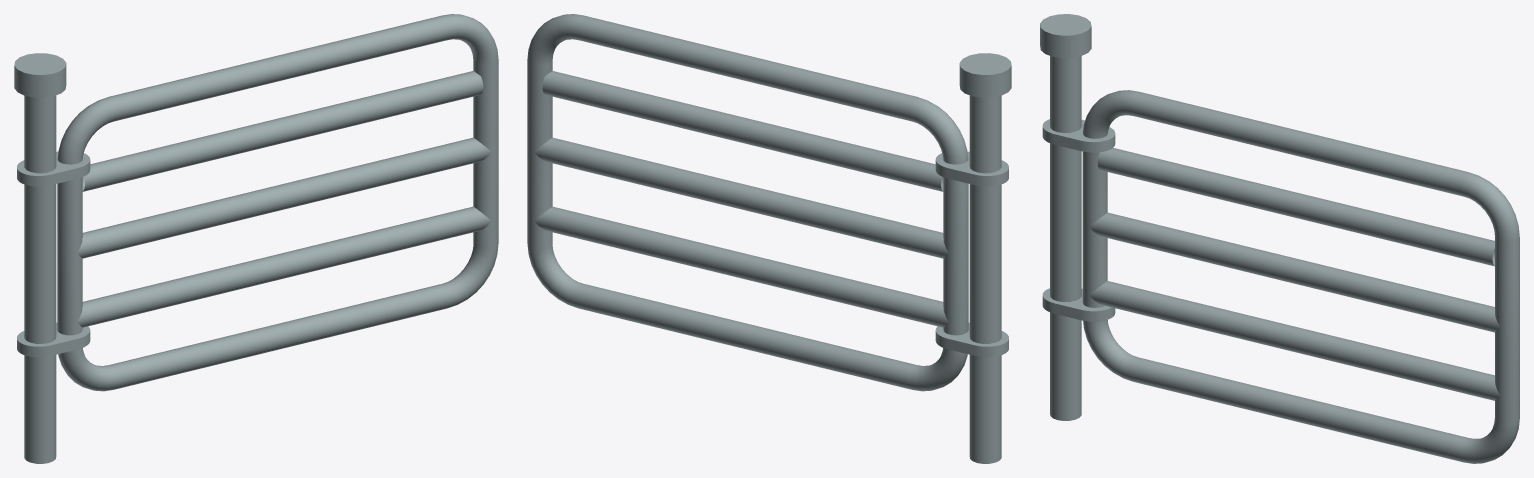
The model's file is Metal gates.fbx.
3 renders of one model, left to right at view 1: azimuth 30°, elevation 25°; view 2: azimuth 150°, elevation 25°; view 3: azimuth 330°, elevation 25°, orthographic.
Visible parts, largest first — view 1: Metal gates; view 2: Metal gates; view 3: Metal gates.
Boxes of the visible parts, bbox=[...] form: Metal gates: bbox=[14, 14, 498, 463]; Metal gates: bbox=[527, 14, 1011, 463]; Metal gates: bbox=[1040, 14, 1519, 463].
Bounding box in the file's own units: 1.89 × 1.48 × 0.1788.
